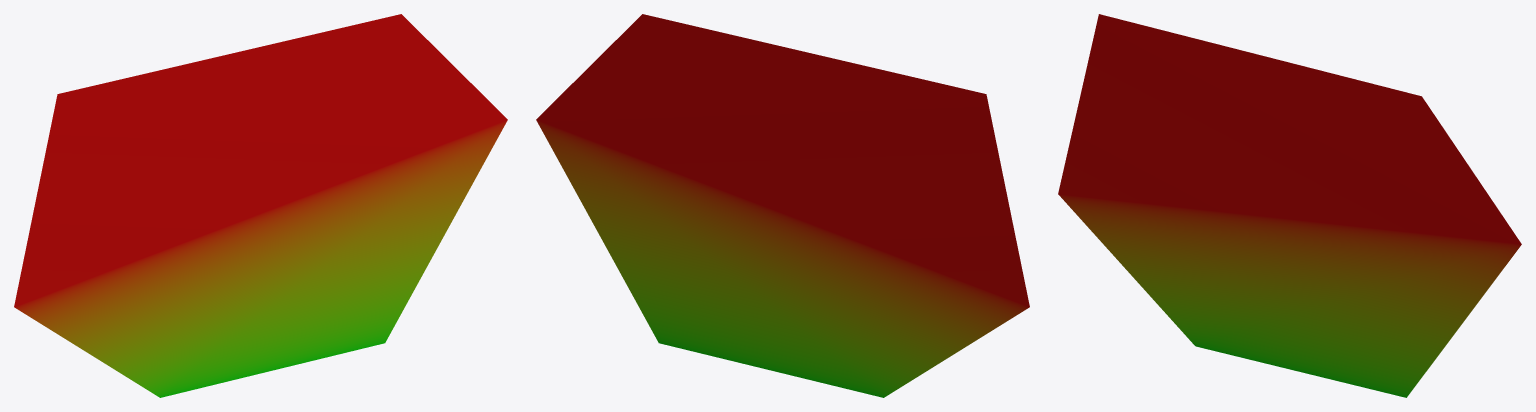
The model's file is Common Hemp Nettle_LOD7_Var5_xh1kdfbqx.fbx.
3 renders of one model, left to right at view 1: azimuth 30°, elevation 25°; view 2: azimuth 150°, elevation 25°; view 3: azimuth 330°, elevation 25°, orthographic. The views are drawn at different scales.
Visible parts, largest first — view 1: _ix3j_Var5_LOD7; view 2: _ix3j_Var5_LOD7; view 3: _ix3j_Var5_LOD7.
Boxes of the visible parts, x1,y1,x2,y2 form: _ix3j_Var5_LOD7: [14, 14, 507, 397]; _ix3j_Var5_LOD7: [536, 14, 1029, 397]; _ix3j_Var5_LOD7: [1058, 14, 1521, 397].
Bounding box in the file's own units: 50.41 × 32.08 × 1.4e-06.
